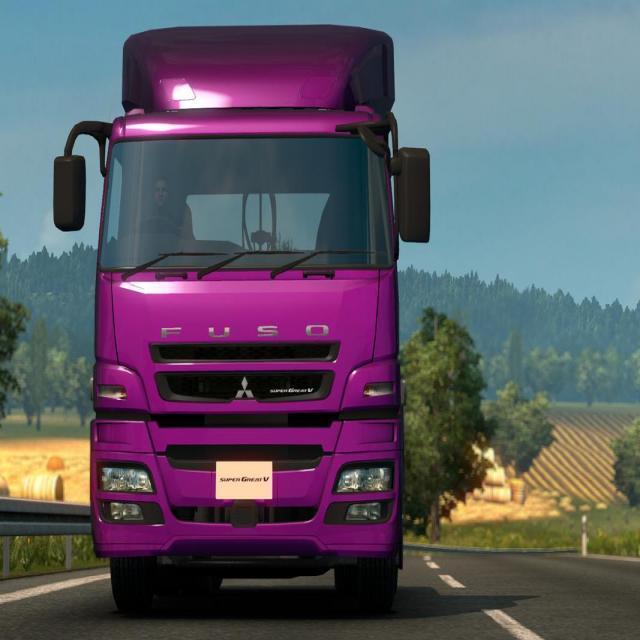truck: (52, 20, 430, 599)
